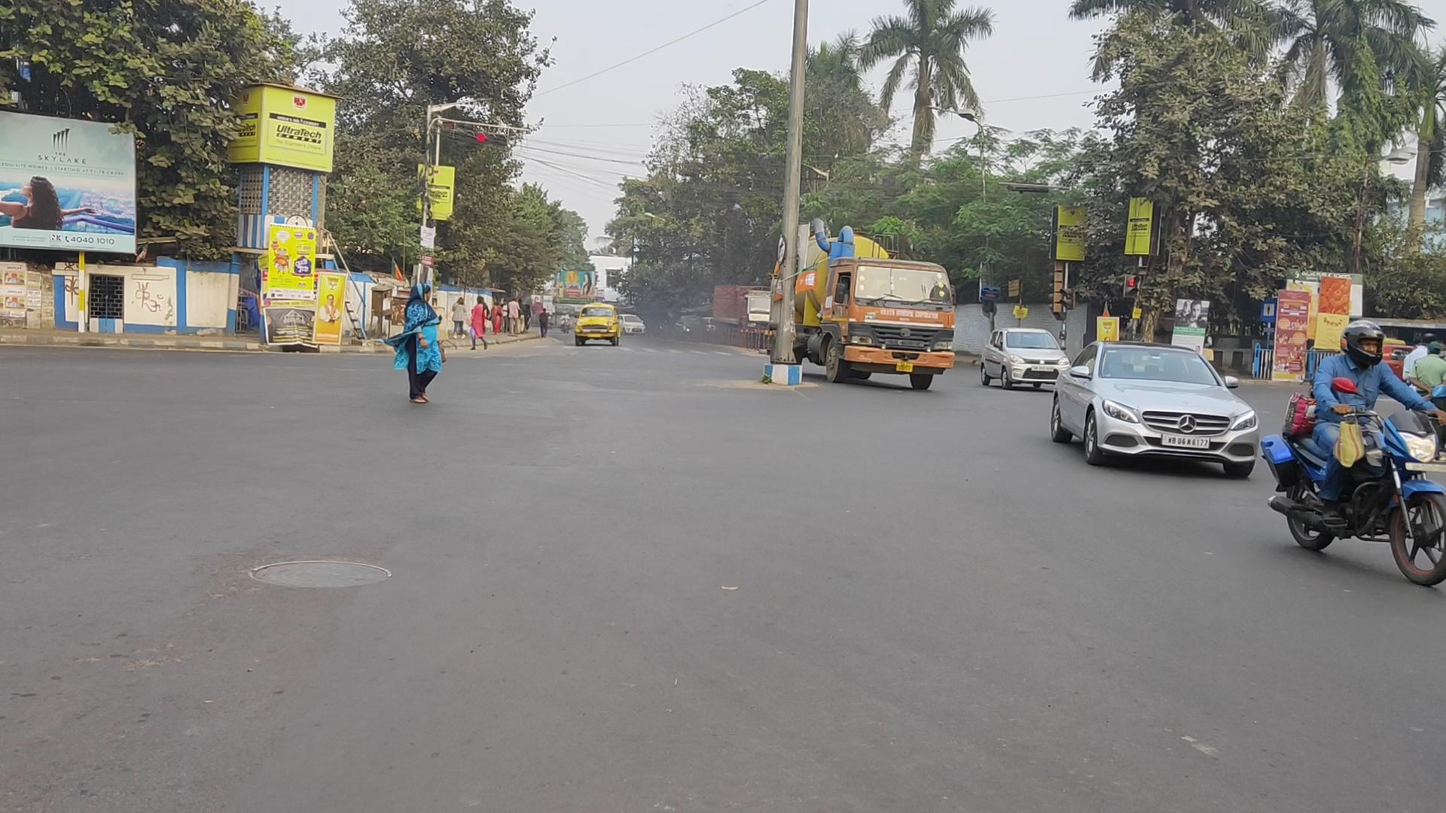bike: (1261, 319, 1446, 588)
car: (1051, 340, 1260, 480), (981, 327, 1070, 390), (575, 301, 621, 347), (617, 314, 646, 336)
truck: (770, 218, 955, 390), (712, 283, 772, 348)
